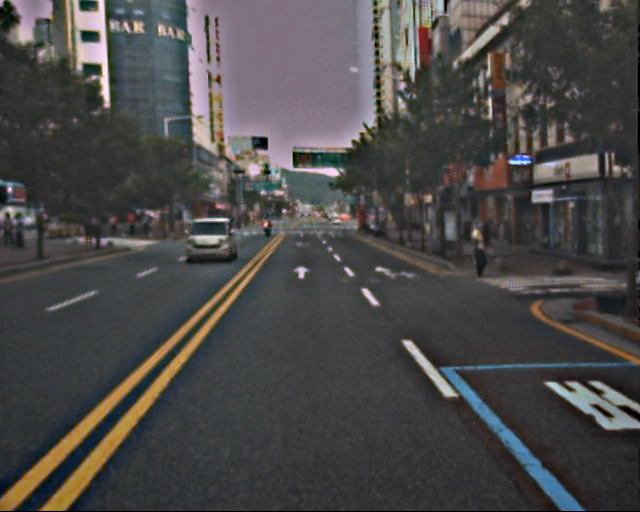person: (467, 221, 494, 286)
